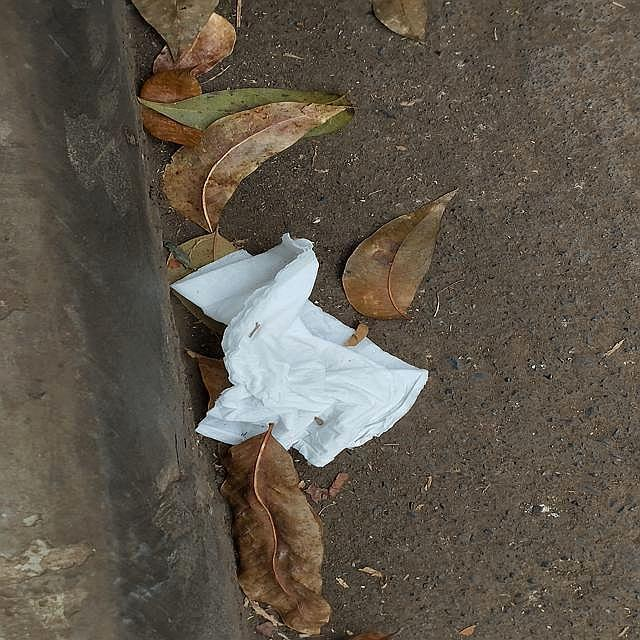Biodegradable: (173, 240, 430, 470)
